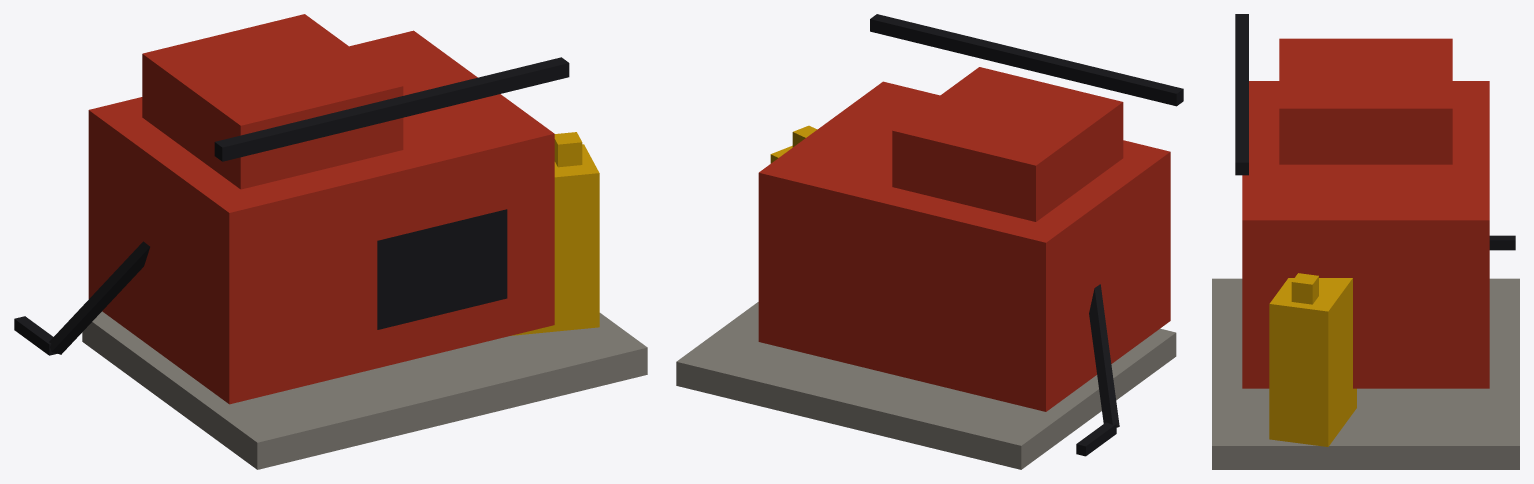
The model's file is prop_generator.34c628bde3b1.glb.
3 renders of one model, left to right at view 1: azimuth 30°, elevation 25°; view 2: azimuth 150°, elevation 25°; view 3: azimuth 270°, elevation 25°, orthographic. The views are drawn at different scales.
Parts seen in each view (by area): view 1: body; view 2: body; view 3: body.
Boxes of the visible parts, box(x1,y1,x2,y2) form: body: box(14, 14, 647, 469); body: box(676, 14, 1183, 469); body: box(1212, 14, 1519, 469).
Size of the model in its own units: 1.07 by 0.7006 by 0.7.
